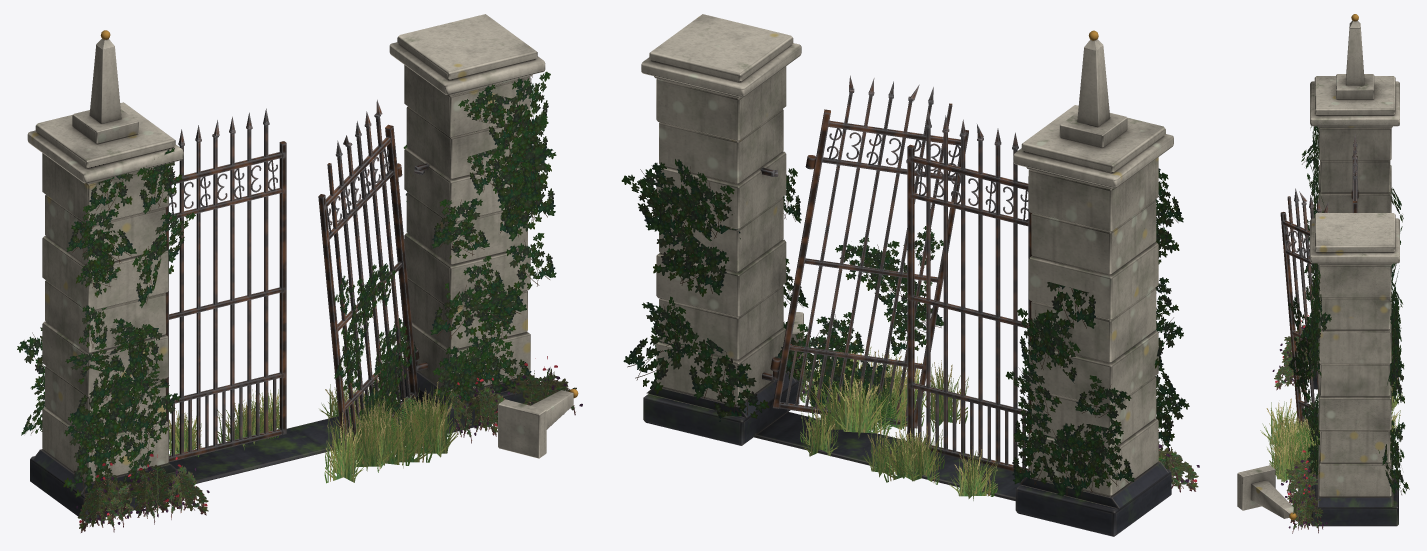
File: GateBroken.fbx
The picture shows the model from 3 angles, left to right: view 1: azimuth 30°, elevation 25°; view 2: azimuth 150°, elevation 25°; view 3: azimuth 270°, elevation 25°; orthographic projection. The views are drawn at different scales.
Parts seen in each view (by area): view 1: GateBroken_Main, GateBroken_Leaves, GateBroken_Leaf0; view 2: GateBroken_Main, GateBroken_Leaves, GateBroken_Leaf0; view 3: GateBroken_Main, GateBroken_Leaves, GateBroken_Leaf0.
Boxes of the visible parts, x1,y1,x2,y2 form: GateBroken_Main: (27, 14, 578, 521); GateBroken_Leaves: (17, 71, 582, 532); GateBroken_Leaf0: (165, 108, 286, 462); GateBroken_Main: (641, 14, 1173, 536); GateBroken_Leaves: (621, 159, 1199, 500); GateBroken_Leaf0: (907, 111, 1031, 472); GateBroken_Main: (1237, 14, 1399, 526); GateBroken_Leaves: (1260, 126, 1409, 533); GateBroken_Leaf0: (1351, 134, 1358, 212).
Size of the model in its own units: 1132 by 973 by 432.
